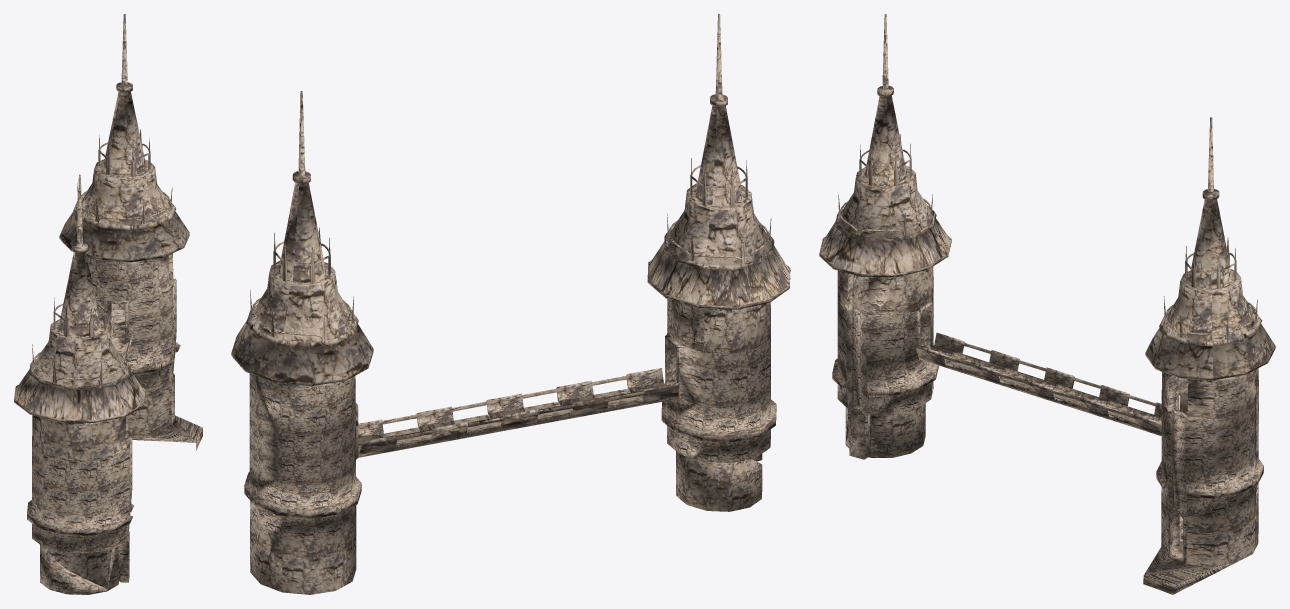
The model's file is castleSectionBridge.obj.
3 renders of one model, left to right at view 1: azimuth 30°, elevation 25°; view 2: azimuth 150°, elevation 25°; view 3: azimuth 270°, elevation 25°, orthographic. The views are drawn at different scales.
Visible parts, largest first — view 1: Mesh_(3); view 2: Mesh_(3); view 3: Mesh_(3).
Part boxes in pixels (x1,y1,x2,y2): Mesh_(3): (14, 14, 202, 594); Mesh_(3): (231, 14, 790, 594); Mesh_(3): (819, 14, 1275, 594).
Bounding box in the file's own units: 14.11 × 18.19 × 16.81.
1 material, 1 textured.
